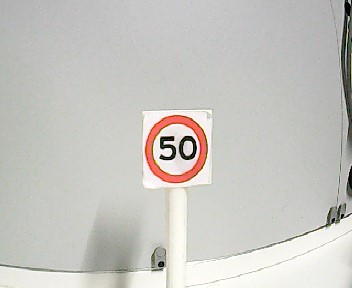50-bord: (145, 115, 208, 184)
